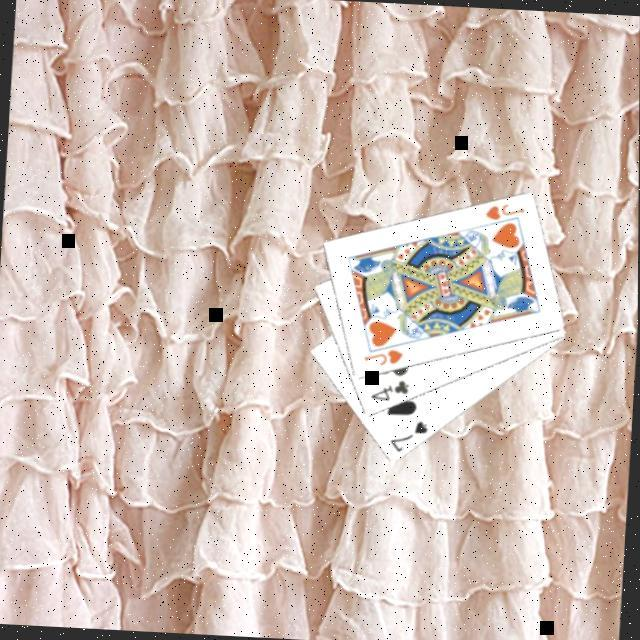4C: (366, 374, 412, 404)
7S: (386, 416, 431, 456)
JH: (481, 198, 527, 224), (360, 344, 406, 368)
